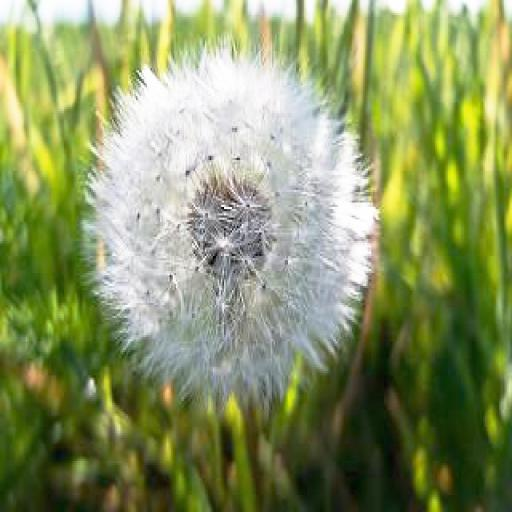dandelion: (86, 40, 384, 408)
